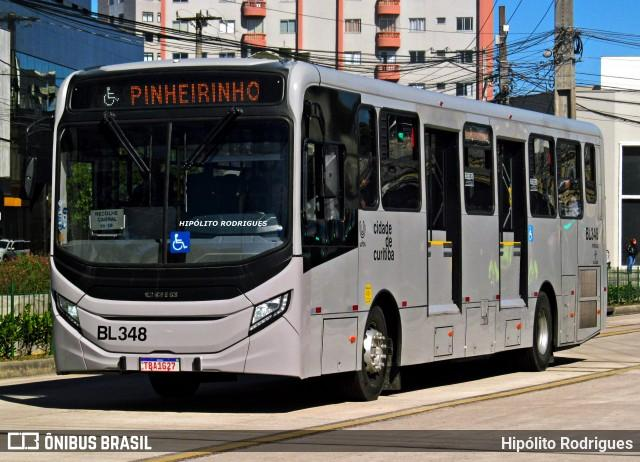PINHEIRINHO: (122, 78, 267, 109)
